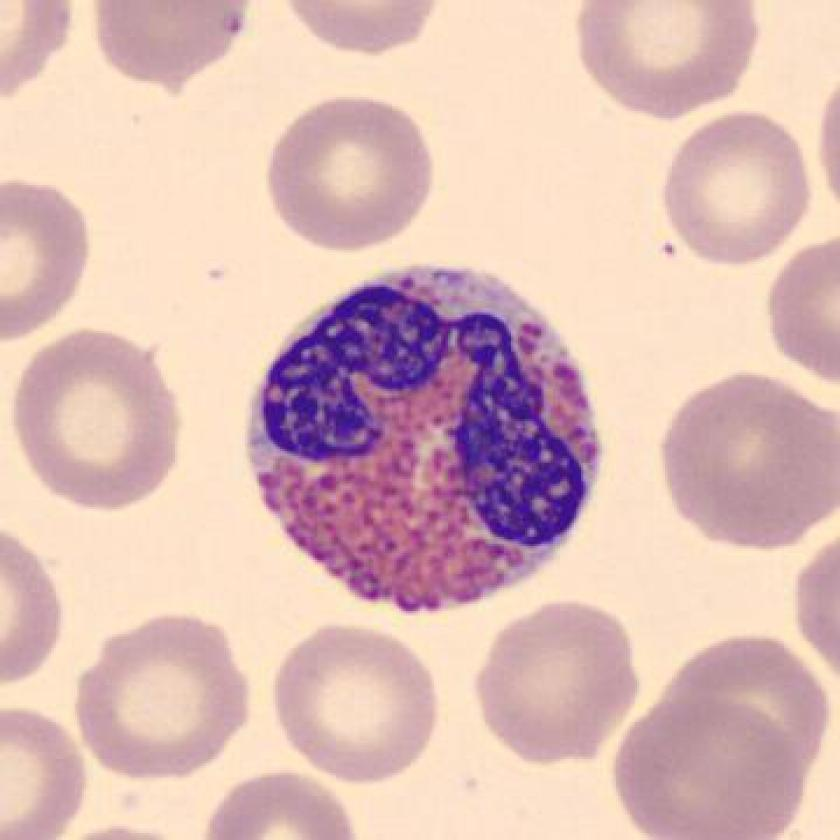eosinophil: (237, 256, 612, 626)
